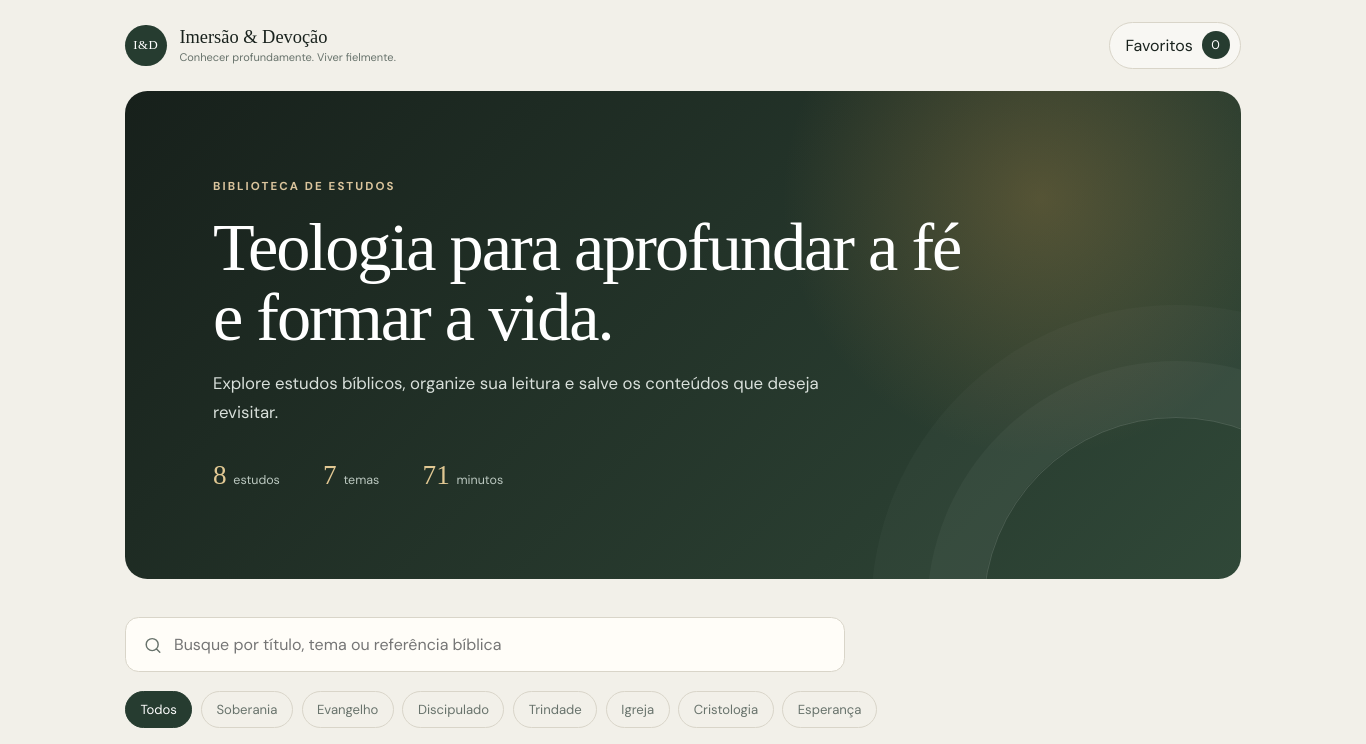
Test: Painel de conteúdos › permite limpar uma busca sem resultados
Step 1. Type "conteúdo inexistente" into the search field with placeholder "Busque por título, tema ou referência bíblica" → (485, 645), box [125, 617, 845, 672]
(page scrolled)
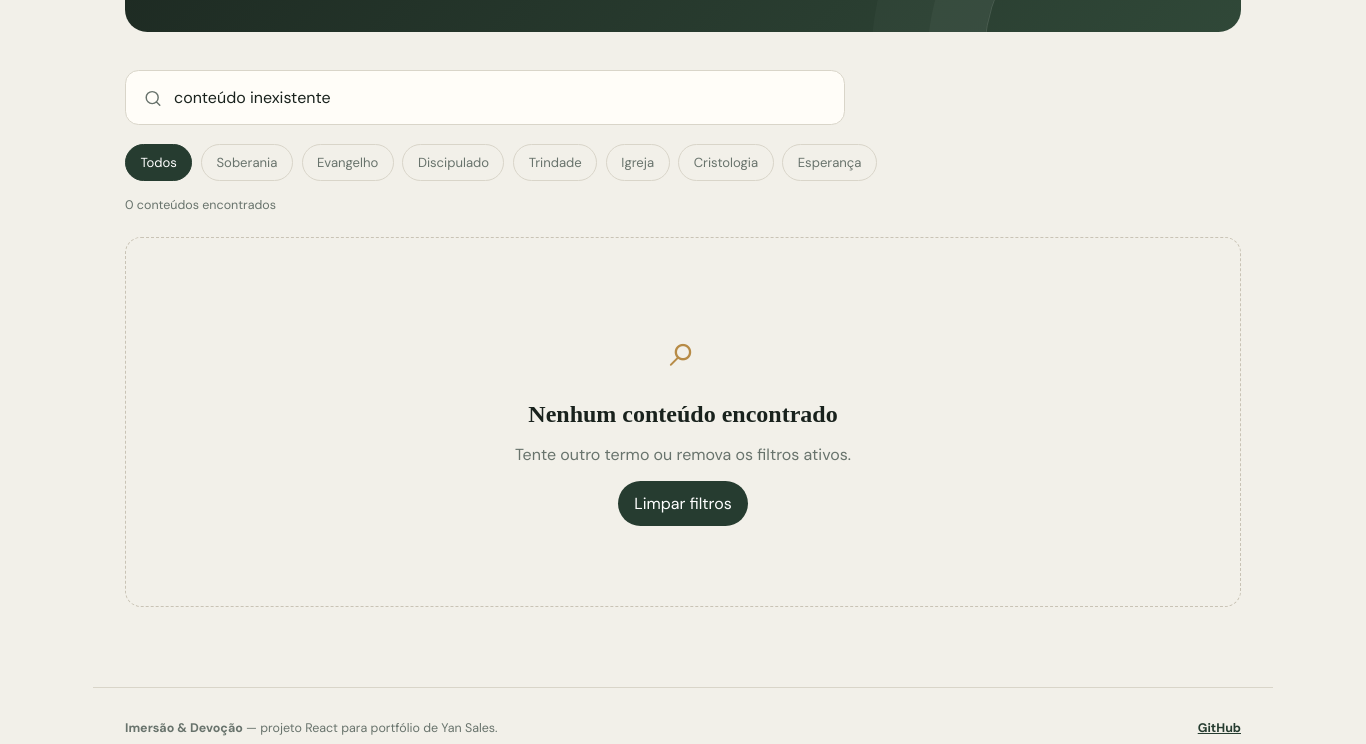
Step 2. Click the button "Limpar filtros" → click(683, 503), box [618, 481, 748, 526]
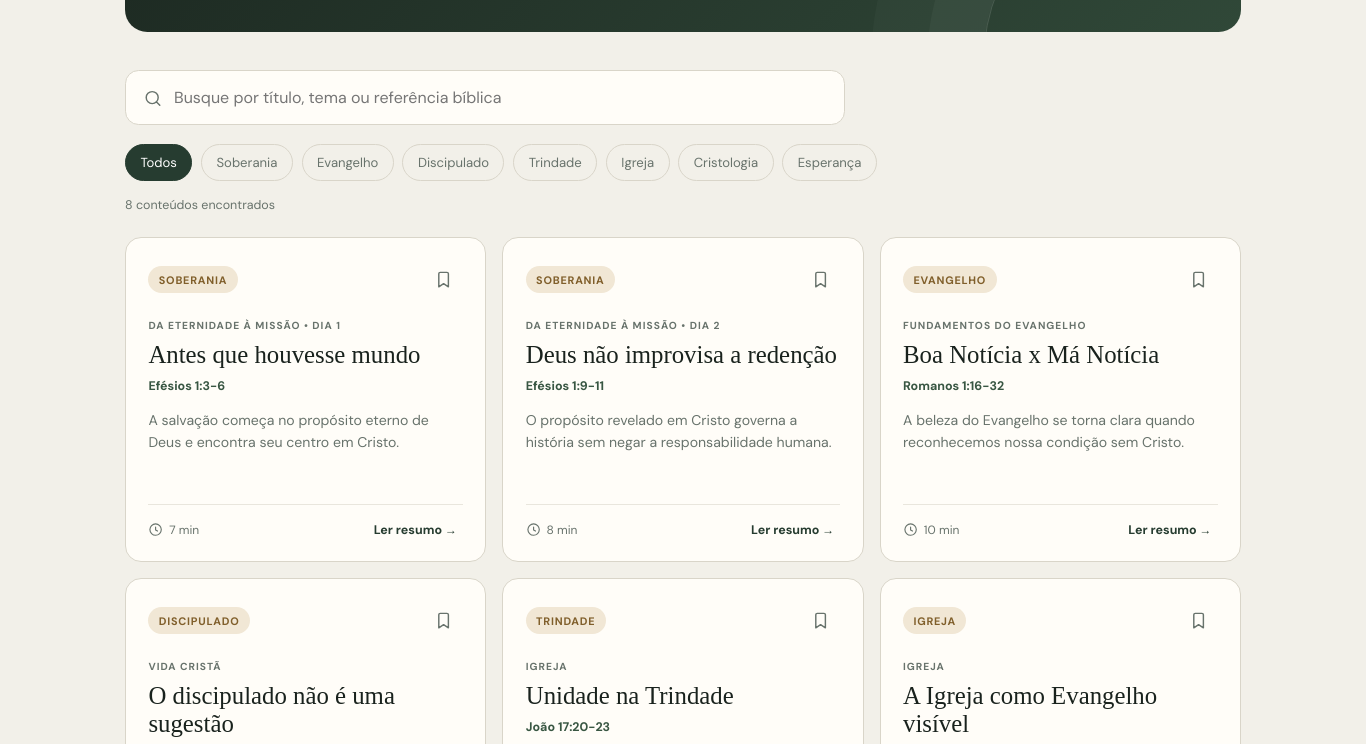
Expected: the search field with placeholder "Busque por título, tema ou referência bíblica" is empty, [125, 70, 845, 125]
Expected: the text "8 conteúdos encontrados" is shown, [125, 197, 275, 213]
